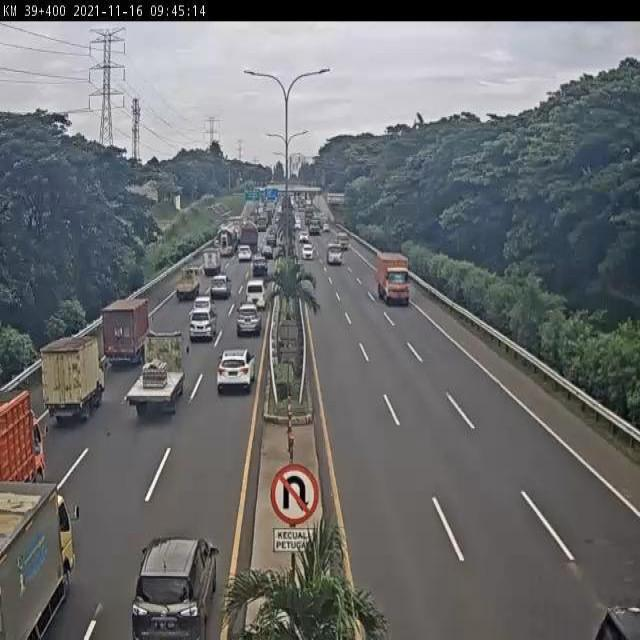car: (130, 538, 218, 640), (217, 347, 257, 393), (184, 314, 212, 350), (238, 308, 262, 339), (245, 283, 264, 313), (207, 278, 227, 306), (185, 300, 207, 323), (251, 261, 269, 279)
truck: (126, 336, 188, 417), (41, 337, 99, 419), (101, 298, 150, 366), (374, 249, 410, 303), (170, 267, 196, 304), (201, 246, 220, 278)
